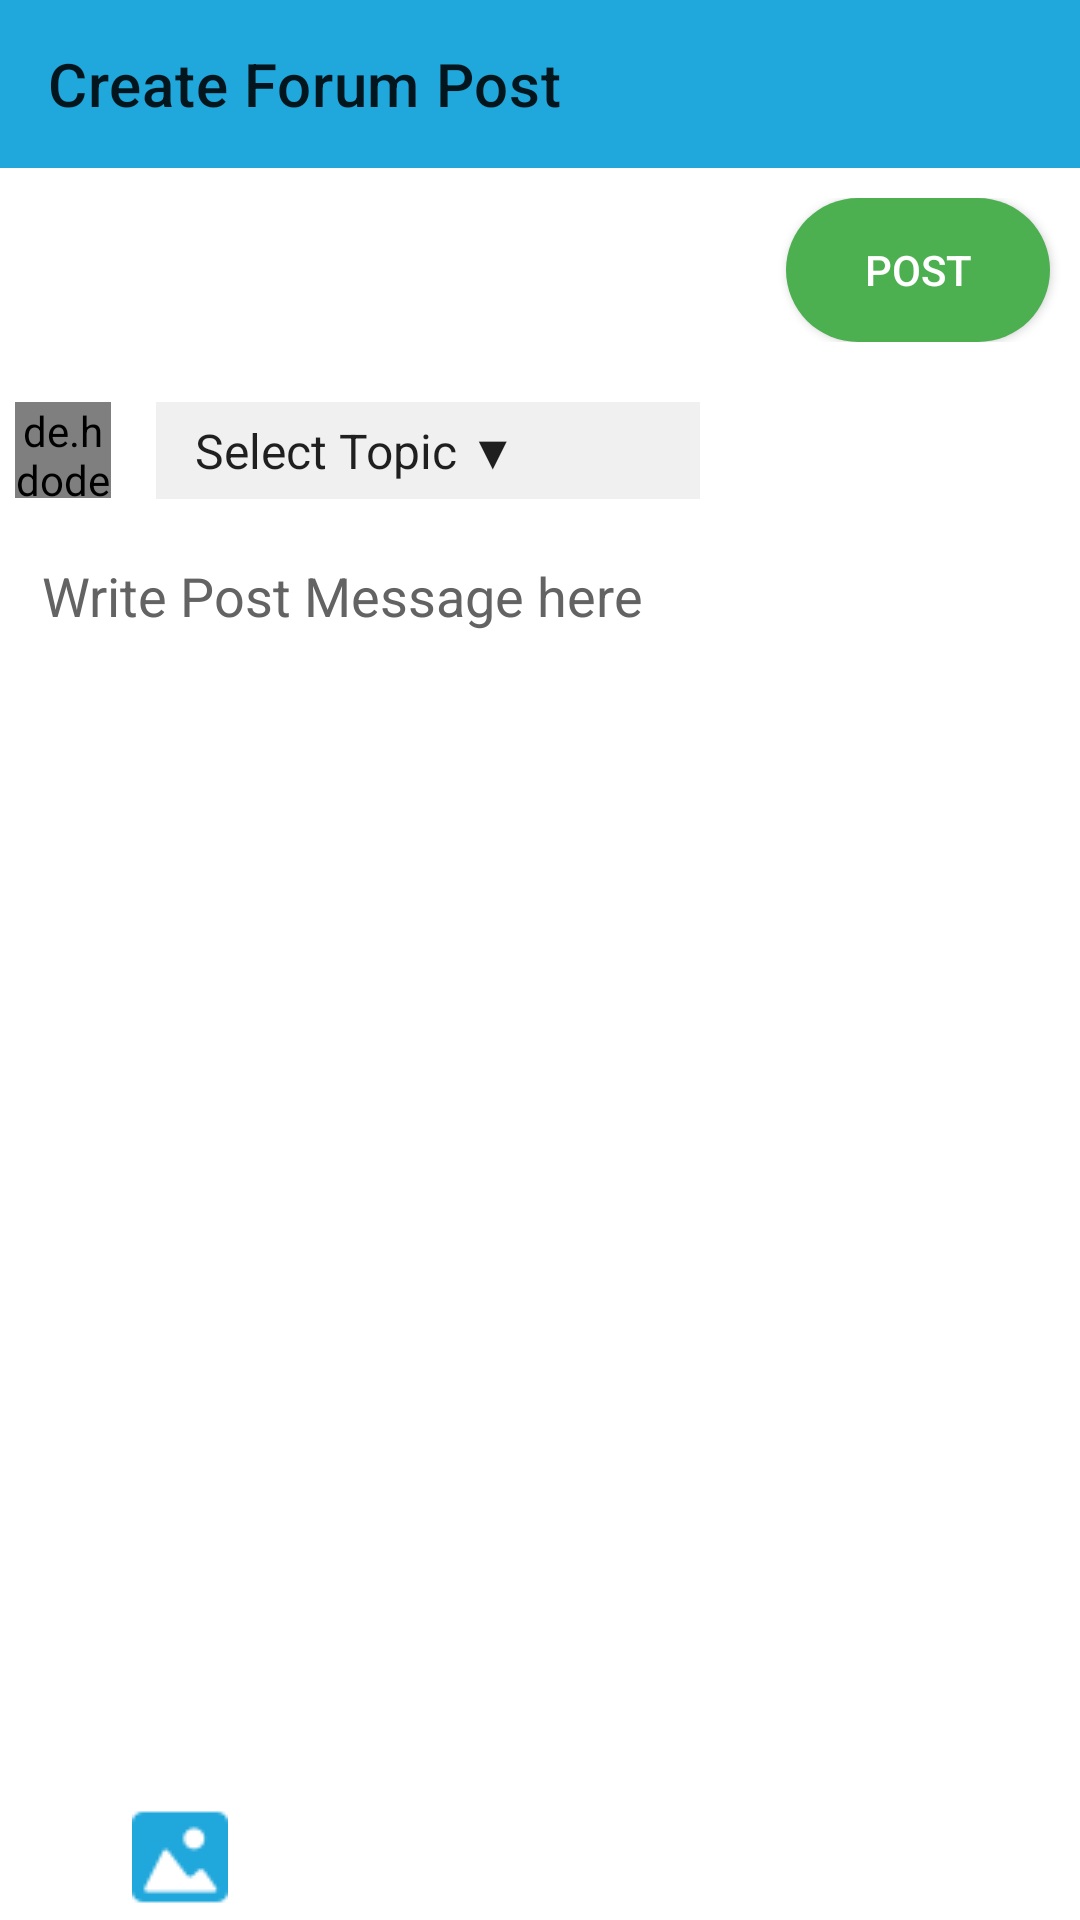

Icons on this 1080×1920 Android screen, each with the point to tap as [x,y]:
attach: [180,1857]
